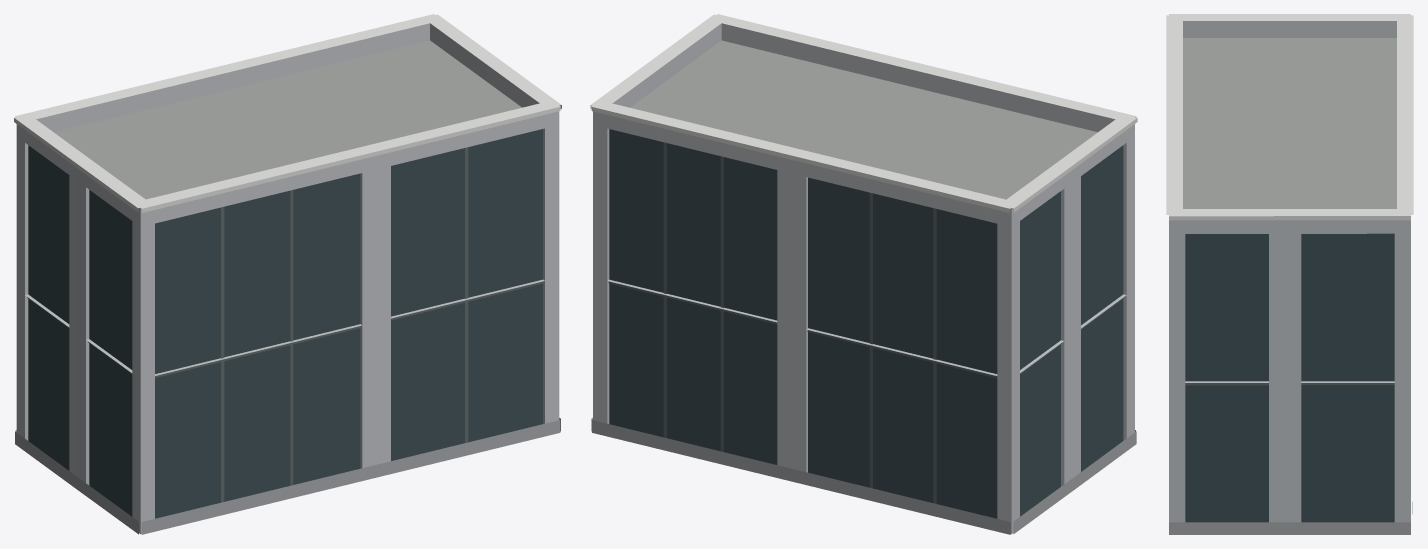
The picture shows the model from 3 angles, left to right: view 1: azimuth 30°, elevation 25°; view 2: azimuth 150°, elevation 25°; view 3: azimuth 270°, elevation 25°; orthographic projection. The views are drawn at different scales.
Parts seen in each view (by area): view 1: industrialLink__glass, industrialLink__roof, industrialLink__wall, industrialLink__parapet, industrialLink__trim, industrialLink__base, industrialLink__frame; view 2: industrialLink__glass, industrialLink__roof, industrialLink__wall, industrialLink__parapet, industrialLink__trim, industrialLink__base, industrialLink__frame; view 3: industrialLink__glass, industrialLink__roof, industrialLink__wall, industrialLink__trim, industrialLink__parapet, industrialLink__base, industrialLink__frame.
Part boxes in pixels (box(x1,y1,x2,y2)): industrialLink__glass: box(28, 129, 542, 518); industrialLink__roof: box(54, 40, 521, 199); industrialLink__wall: box(16, 123, 559, 534); industrialLink__parapet: box(16, 23, 559, 224); industrialLink__trim: box(14, 14, 561, 212); industrialLink__base: box(15, 418, 560, 534); industrialLink__frame: box(27, 147, 543, 502); industrialLink__glass: box(609, 129, 1123, 518); industrialLink__roof: box(630, 40, 1097, 199); industrialLink__wall: box(593, 123, 1134, 534); industrialLink__parapet: box(593, 23, 1134, 224); industrialLink__trim: box(590, 14, 1137, 212); industrialLink__base: box(591, 418, 1136, 534); industrialLink__frame: box(608, 142, 1124, 503); industrialLink__glass: box(1185, 233, 1394, 522); industrialLink__roof: box(1183, 38, 1396, 208); industrialLink__wall: box(1169, 231, 1410, 522); industrialLink__trim: box(1166, 14, 1413, 220); industrialLink__parapet: box(1169, 21, 1410, 231); industrialLink__base: box(1169, 502, 1412, 534); industrialLink__frame: box(1185, 383, 1394, 385).
Size of the model in its own units: 10.33 by 7.6 by 5.34.
